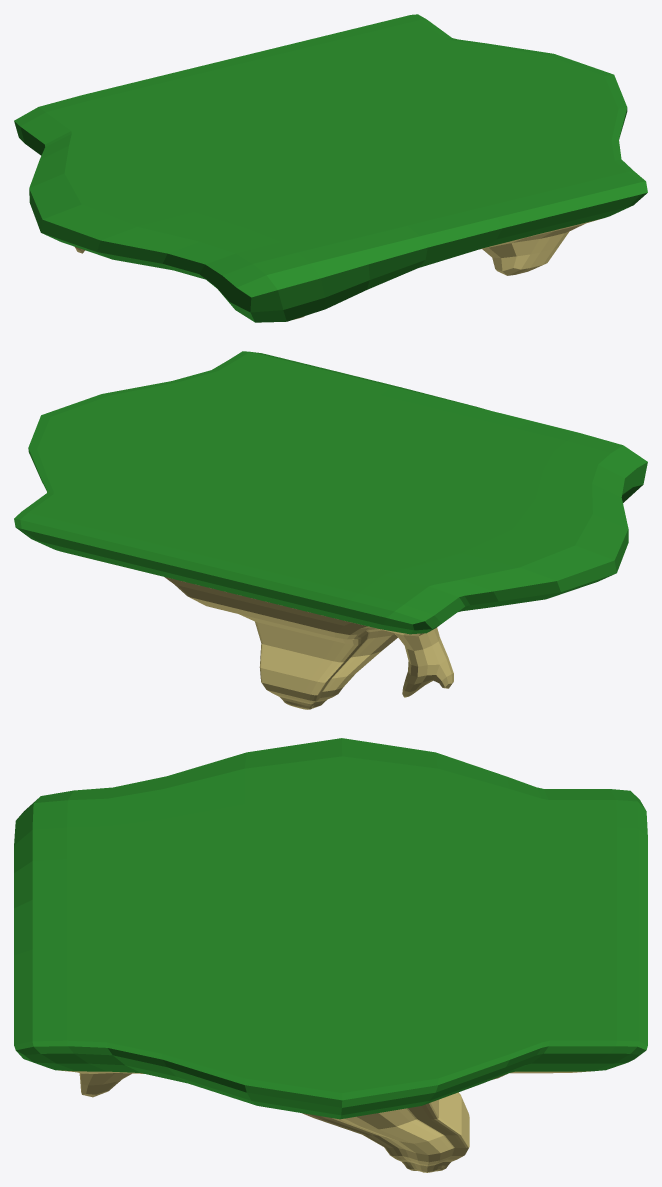
File: platform.fbx
The picture shows the model from 3 angles, top to bottom: view 1: azimuth 30°, elevation 25°; view 2: azimuth 150°, elevation 25°; view 3: azimuth 270°, elevation 25°; orthographic projection. The views are drawn at different scales.
Parts seen in each view (by area): view 1: Cube; view 2: Cube; view 3: Cube.
Boxes of the visible parts, x1,y1,x2,y2 form: Cube: (14,14,647,322); Cube: (14,351,647,709); Cube: (14,738,647,1172).
Size of the model in its own units: 4043 by 1328 by 2919.
